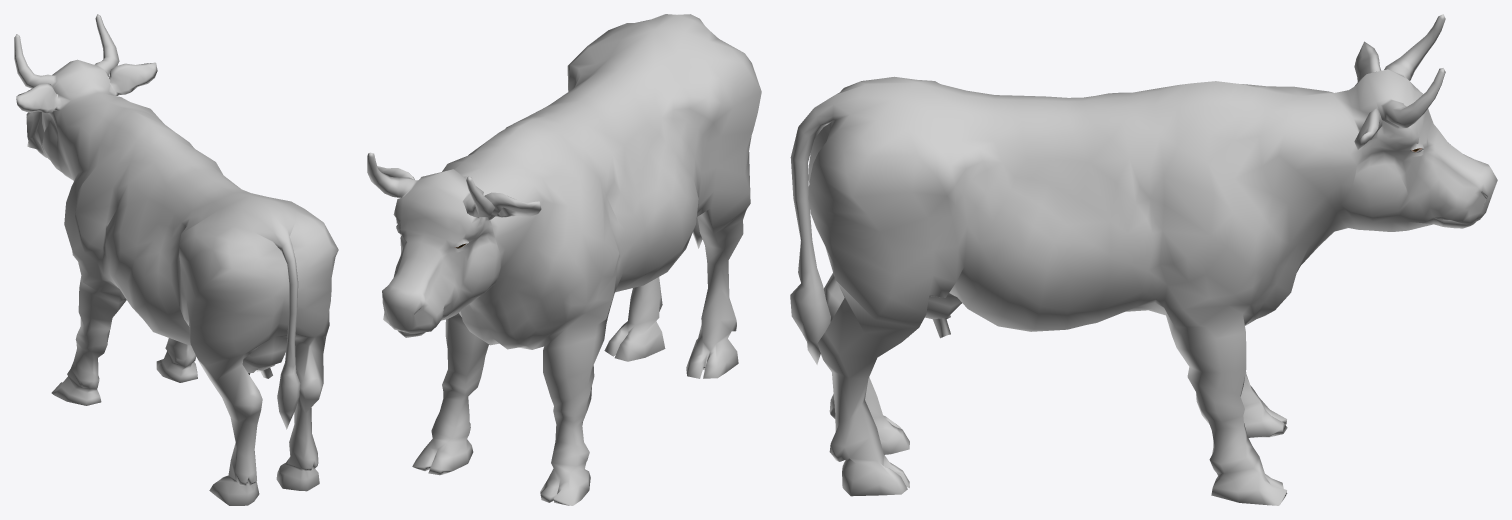
File: Cow FBX.fbx
3 renders of one model, left to right at view 1: azimuth 30°, elevation 25°; view 2: azimuth 150°, elevation 25°; view 3: azimuth 270°, elevation 25°, orthographic. The views are drawn at different scales.
Visible parts, largest first — view 1: Mesh; view 2: Mesh; view 3: Mesh.
Boxes of the visible parts, x1=… form: Mesh: x1=14, y1=14, x2=338, y2=505; Mesh: x1=367, y1=14, x2=761, y2=505; Mesh: x1=790, y1=14, x2=1497, y2=505.
Size of the model in its own units: 3.07 by 6.54 by 9.83.
